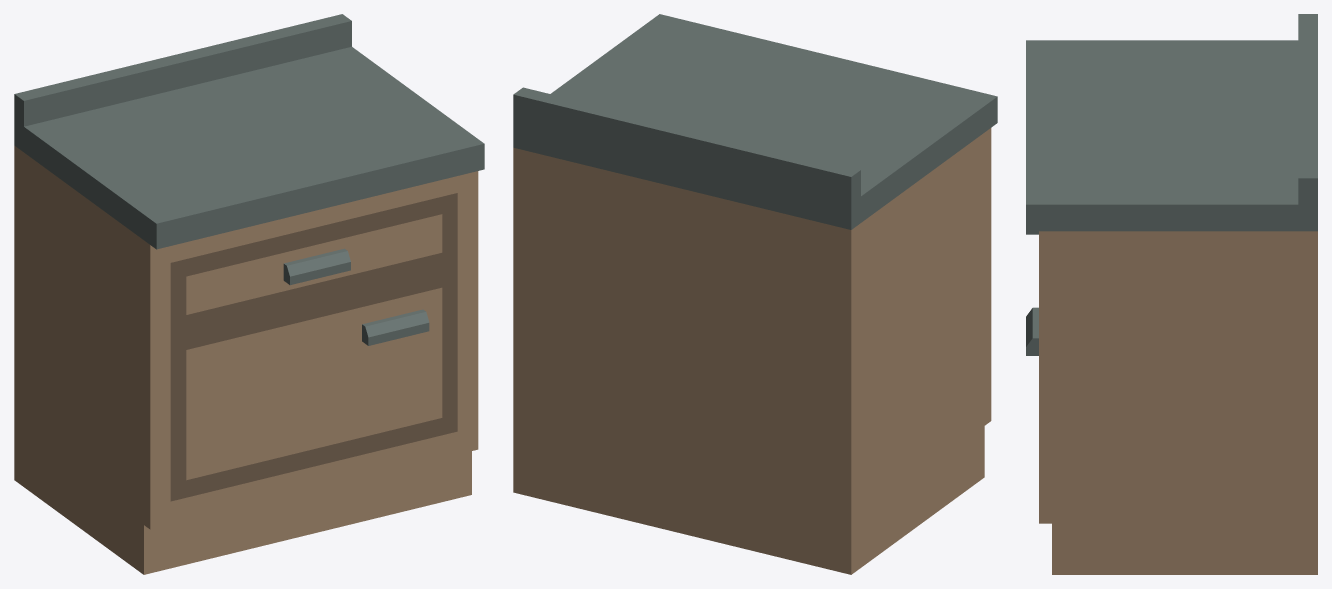
The model's file is kitchen_cabinet.glb.
3 views of the same model, side by side, from view 1: azimuth 30°, elevation 25°; view 2: azimuth 150°, elevation 25°; view 3: azimuth 270°, elevation 25° (orthographic). The views are drawn at different scales.
Visible parts, largest first — view 1: kitchenCabinetDrawer(Clone), door, drawer; view 2: kitchenCabinetDrawer(Clone); view 3: kitchenCabinetDrawer(Clone), door.
Part boxes in pixels (x1,y1,x2,y2): kitchenCabinetDrawer(Clone): (14, 14, 484, 574); door: (170, 266, 457, 501); drawer: (170, 193, 457, 336); kitchenCabinetDrawer(Clone): (513, 14, 997, 574); kitchenCabinetDrawer(Clone): (1026, 14, 1317, 574); door: (1026, 307, 1038, 355).
Size of the model in its own units: 0.8 by 0.9 by 0.6.
